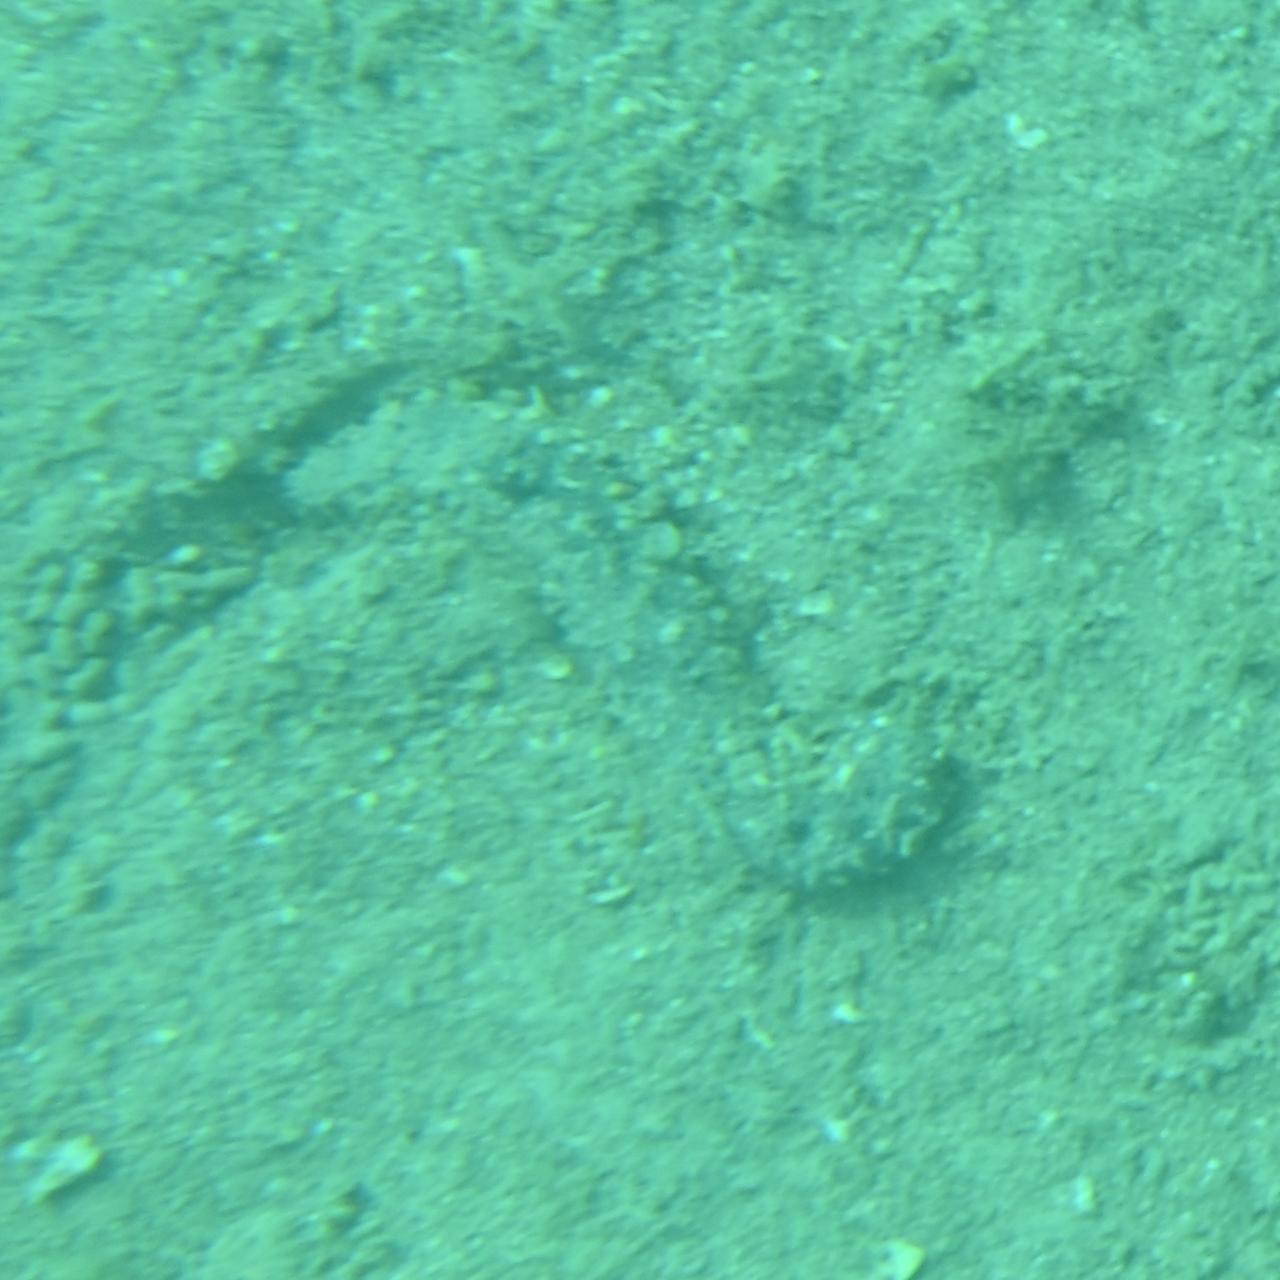Holothuria tubulosa: (255, 360, 1025, 920)
